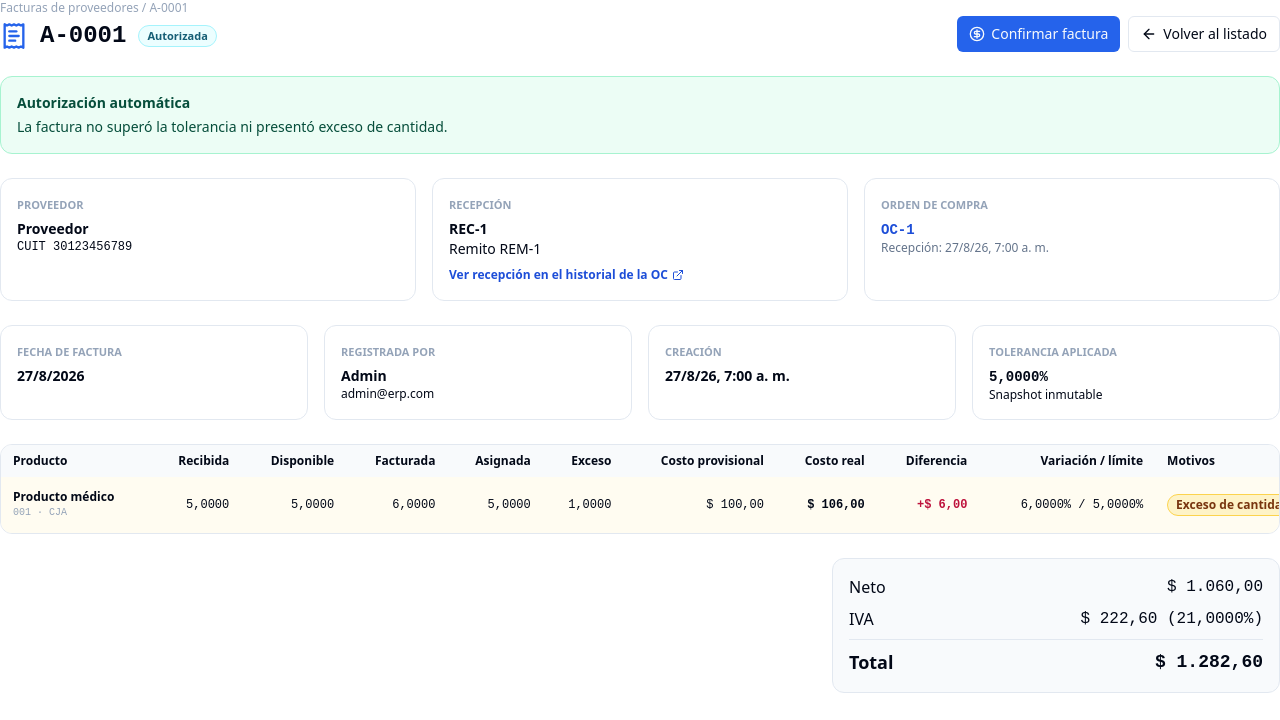
SupplierInvoiceDetailPage observed workflow › shows the irreversible impact summary and confirms once
The width and height of the screenshot is (1280, 720).
Click the button "Confirmar factura" at (1039,34), box x1=957 y1=16 x2=1120 y2=52
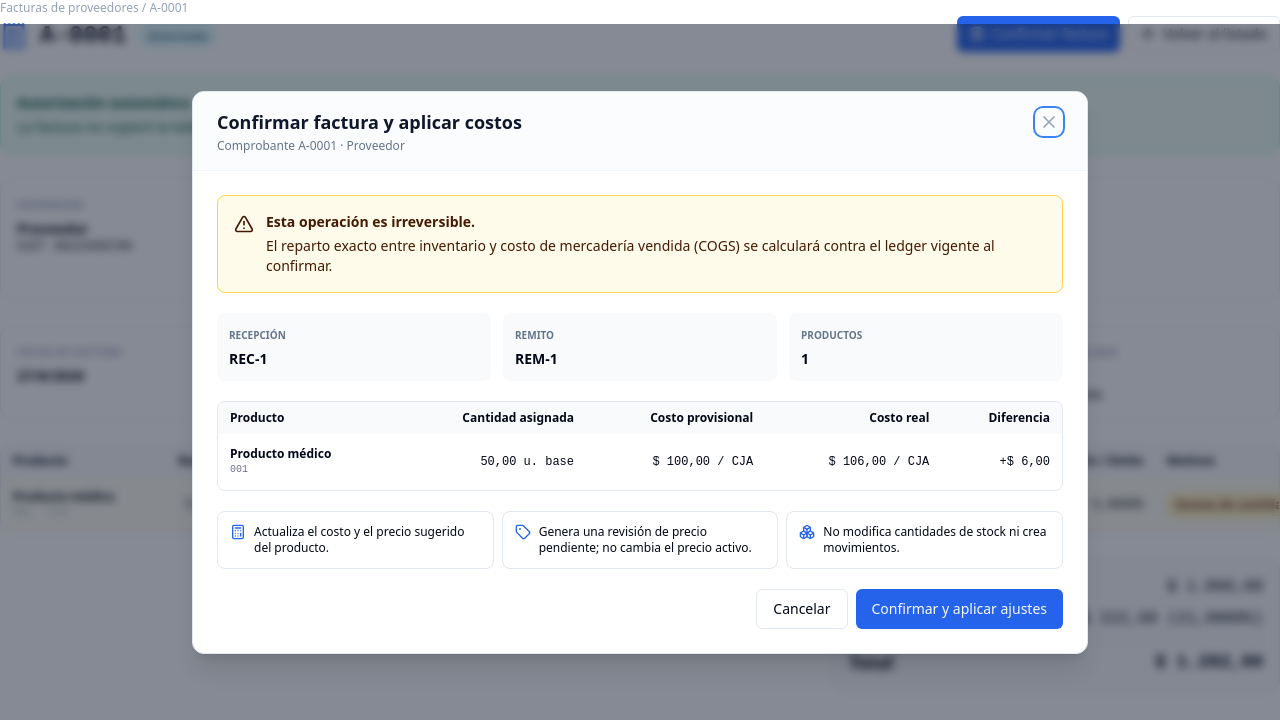
expect the text "Esta operación es irreversible." is shown: met, box x1=266 y1=212 x2=475 y2=230
expect the text "no cambia el precio activo" is shown: met, box x1=539 y1=522 x2=752 y2=556
expect the text "50,00 u. base" is shown: met, box x1=395 y1=434 x2=586 y2=490
Click the button "Confirmar y aplicar ajustes" at (959,608), box x1=856 y1=588 x2=1063 y2=628
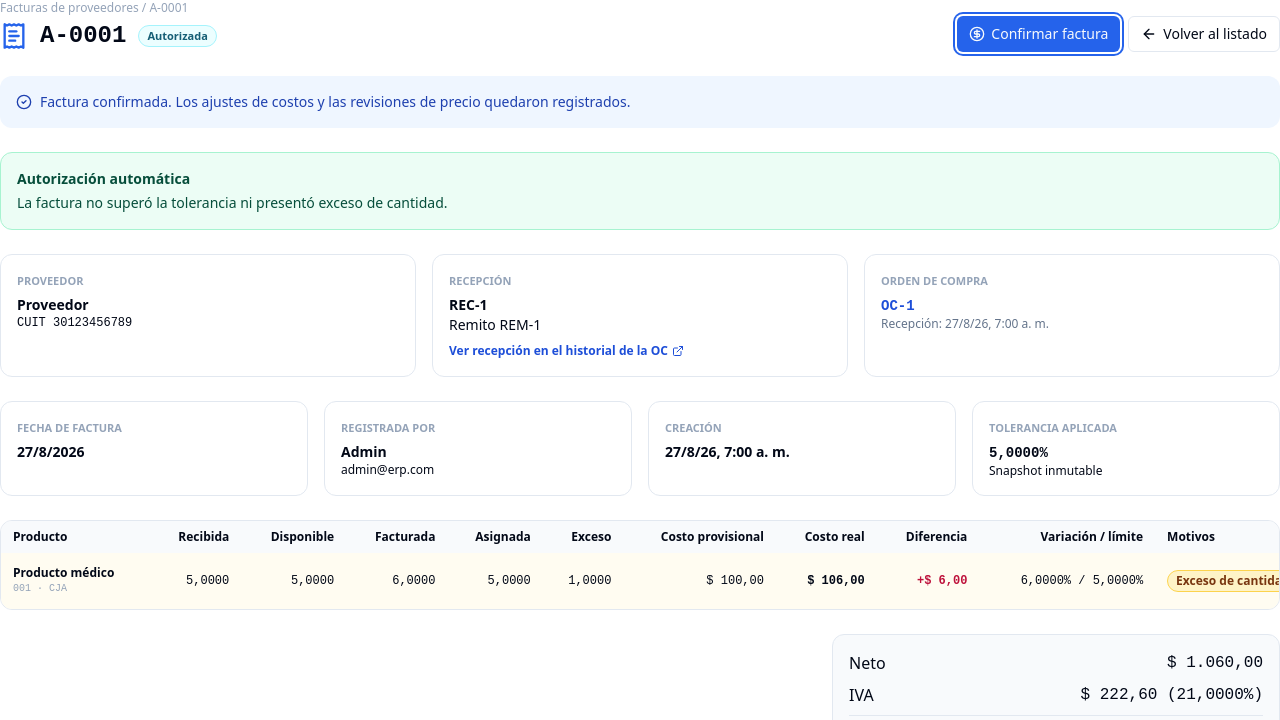
expect the message shows "ajustes de costos": met, box x1=40 y1=92 x2=630 y2=111
expect the dialog is gone: met
